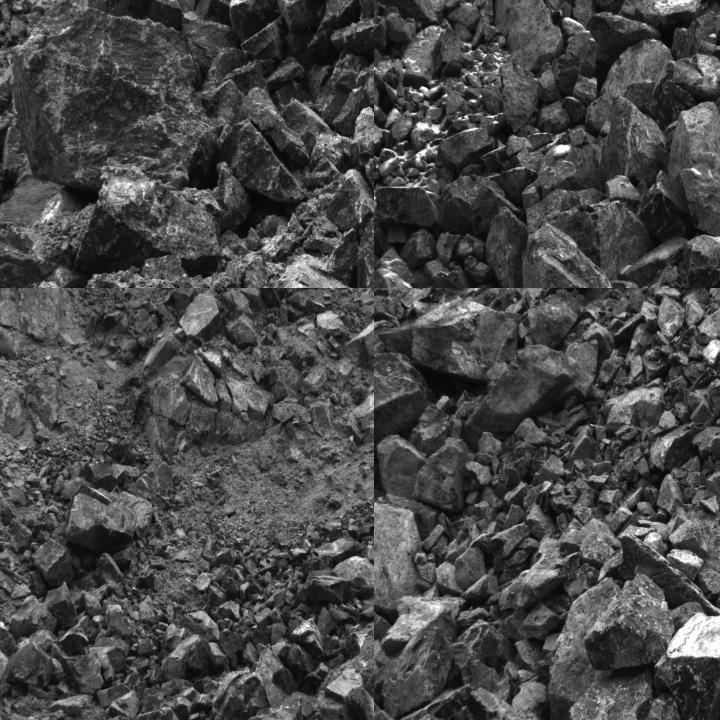stone: (8, 0, 223, 189), (74, 164, 222, 277), (380, 294, 523, 380), (462, 344, 574, 442), (587, 43, 693, 137), (596, 536, 719, 615), (374, 607, 458, 719), (583, 573, 674, 671), (374, 349, 436, 474), (214, 118, 304, 202), (517, 225, 634, 287), (533, 662, 655, 719), (654, 614, 719, 719), (600, 96, 668, 186), (497, 538, 580, 611), (374, 500, 423, 611), (588, 12, 666, 77), (495, 0, 566, 70), (443, 618, 517, 685), (670, 506, 719, 601), (82, 482, 155, 540), (66, 494, 136, 554), (412, 436, 468, 510), (667, 101, 719, 180), (683, 140, 719, 254), (435, 176, 503, 235), (319, 48, 366, 130), (301, 555, 373, 606), (638, 174, 692, 240), (327, 166, 373, 243), (528, 288, 587, 348), (649, 417, 713, 472), (501, 590, 570, 641), (537, 147, 605, 198), (377, 436, 430, 498), (651, 53, 719, 101), (182, 9, 235, 70), (487, 207, 527, 287), (211, 667, 271, 719), (602, 383, 666, 431), (10, 638, 69, 689), (552, 30, 596, 98), (622, 239, 688, 284), (83, 0, 183, 29), (220, 372, 276, 421), (498, 62, 537, 132), (302, 539, 365, 582), (0, 228, 44, 287), (437, 127, 496, 170), (401, 26, 443, 86), (375, 187, 438, 226), (669, 11, 719, 60), (53, 646, 102, 696), (31, 540, 76, 590), (160, 635, 211, 679), (178, 294, 222, 344), (678, 234, 719, 287), (634, 0, 705, 30), (374, 0, 457, 25), (410, 404, 450, 455), (566, 338, 597, 402), (180, 354, 218, 406), (130, 684, 183, 719), (43, 582, 79, 630), (670, 456, 706, 504), (156, 622, 197, 664), (58, 615, 98, 656), (510, 681, 552, 719), (489, 522, 531, 560), (175, 609, 221, 643), (277, 0, 322, 34), (455, 547, 491, 587), (465, 688, 511, 719), (288, 618, 324, 657), (666, 548, 706, 583), (102, 591, 132, 637), (325, 669, 364, 704), (627, 265, 688, 287), (290, 690, 335, 719), (580, 534, 617, 568), (84, 460, 120, 493), (658, 297, 684, 341), (657, 474, 683, 517), (94, 552, 123, 590), (225, 316, 259, 348), (534, 453, 566, 485), (524, 480, 554, 514), (307, 400, 336, 435), (47, 694, 94, 714), (192, 671, 228, 697), (202, 584, 227, 621), (193, 348, 226, 375), (106, 690, 140, 716), (130, 472, 159, 500), (112, 463, 140, 492), (348, 687, 373, 719), (0, 615, 17, 659), (571, 0, 596, 29), (220, 568, 242, 600), (220, 628, 245, 656), (374, 319, 393, 355), (574, 75, 596, 105), (587, 0, 634, 14), (697, 310, 719, 339), (565, 97, 586, 127), (684, 297, 705, 327), (137, 632, 161, 658), (706, 461, 719, 507), (363, 53, 373, 111), (317, 606, 336, 636), (702, 338, 719, 371), (264, 591, 291, 610), (124, 671, 146, 693), (707, 379, 719, 418), (254, 607, 271, 630), (271, 623, 288, 645), (243, 641, 257, 667), (192, 693, 212, 711), (131, 657, 151, 672), (252, 629, 271, 644), (363, 545, 373, 568), (93, 615, 106, 632)
